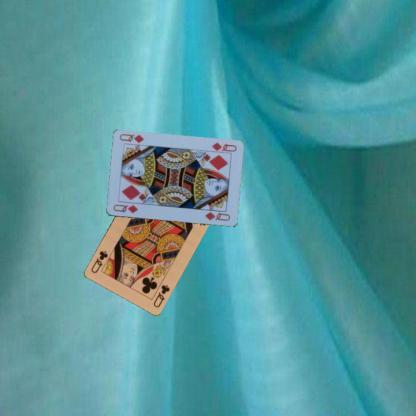Qc: (151, 282, 171, 309)
Qd: (206, 140, 238, 156), (110, 202, 139, 216)
